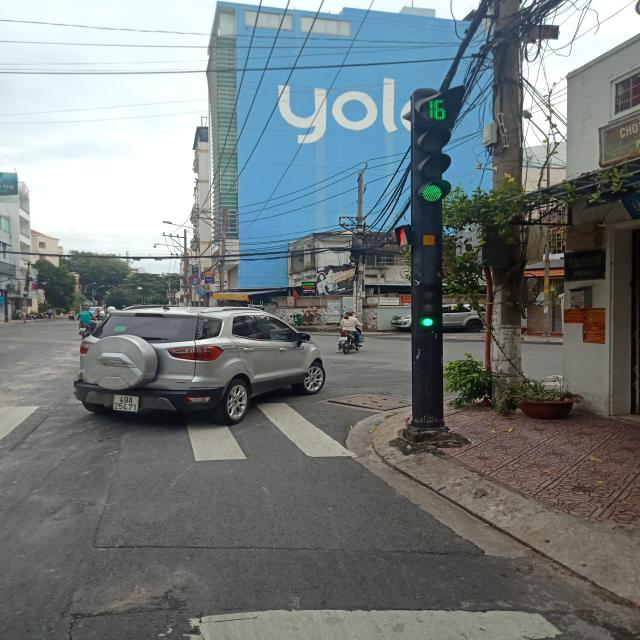Green: (410, 120, 452, 210)
